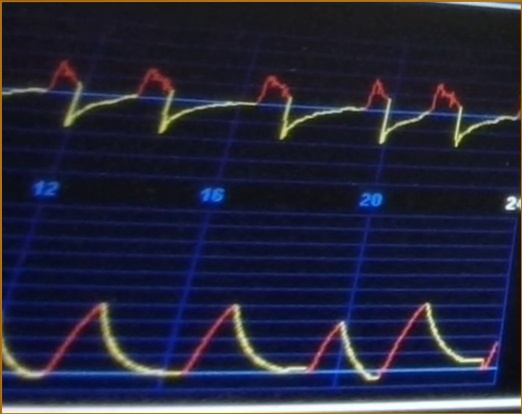Accumulation Flow: (5, 49, 518, 178)
Volume: (2, 262, 498, 386)
